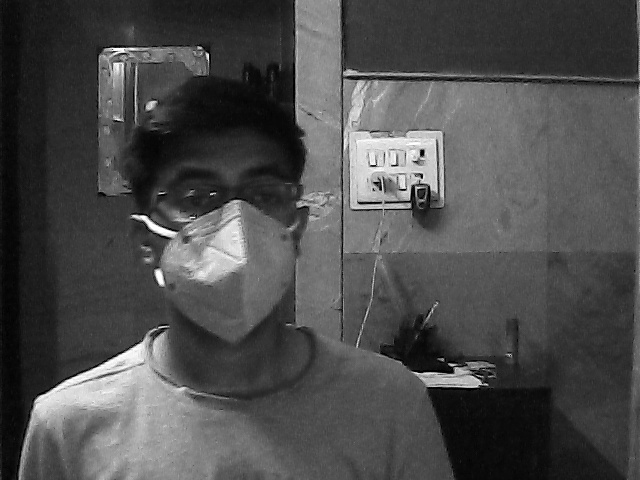mask: (135, 149, 307, 347)
